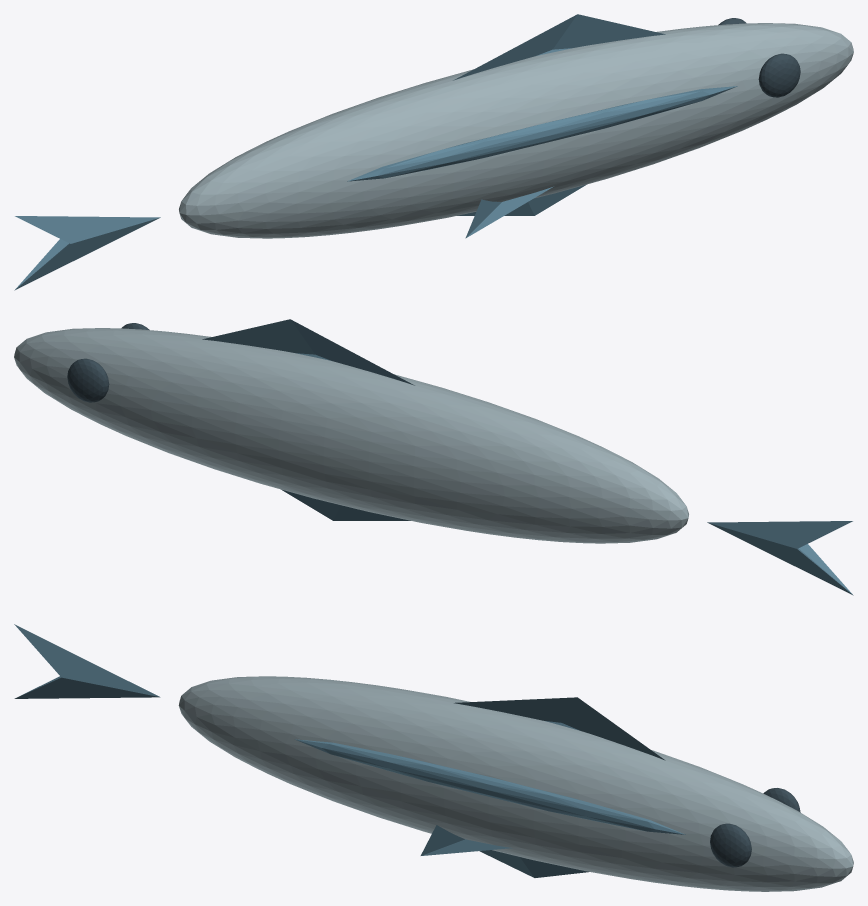
File: Ikan_Cencaru.glb
3 renders of one model, top to bottom at view 1: azimuth 30°, elevation 25°; view 2: azimuth 150°, elevation 25°; view 3: azimuth 330°, elevation 25°, orthographic.
Visible parts, largest first — view 1: Part_00, Part_07, Part_01, Part_02, Part_05, Part_04, Part_03; view 2: Part_00, Part_01, Part_02, Part_06, Part_03; view 3: Part_00, Part_07, Part_01, Part_02, Part_05, Part_04, Part_03.
Boxes of the visible parts, bbox=[...] form: Part_00: bbox=[179, 23, 853, 238]; Part_07: bbox=[347, 86, 737, 181]; Part_01: bbox=[14, 216, 160, 290]; Part_02: bbox=[453, 14, 665, 80]; Part_05: bbox=[758, 53, 800, 97]; Part_04: bbox=[465, 186, 553, 238]; Part_03: bbox=[457, 184, 586, 215]; Part_00: bbox=[14, 328, 688, 543]; Part_01: bbox=[707, 521, 853, 595]; Part_02: bbox=[202, 319, 414, 385]; Part_06: bbox=[67, 358, 109, 402]; Part_03: bbox=[281, 489, 410, 520]; Part_00: bbox=[178, 676, 853, 891]; Part_07: bbox=[295, 739, 685, 834]; Part_01: bbox=[14, 624, 160, 698]; Part_02: bbox=[454, 697, 665, 760]; Part_05: bbox=[710, 823, 751, 867]; Part_04: bbox=[420, 825, 512, 855]; Part_03: bbox=[479, 850, 588, 877].
Bounding box in the file's own units: 1.58 × 0.3432 × 0.1947.
